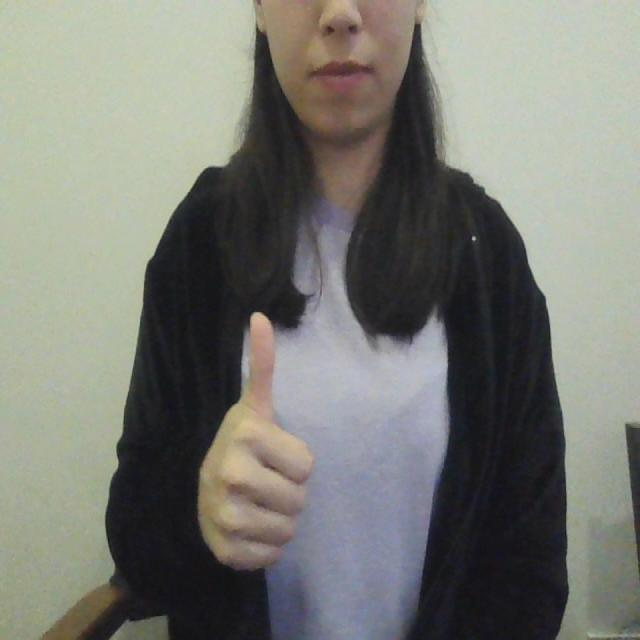Tamam: (185, 300, 318, 586)
